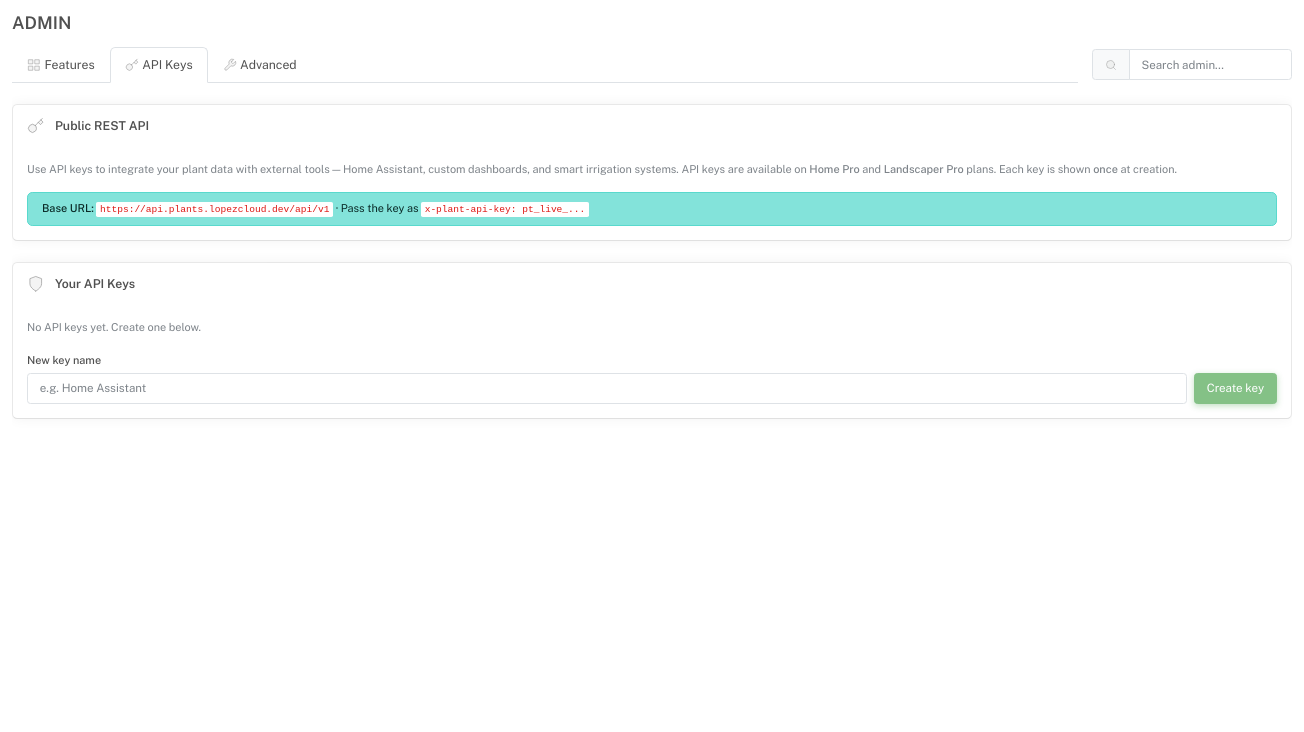
AdminPage API Keys tab › creates a key with the entered name and shows the new-key banner
Type "My App" into the field with test id "new-key-name-input" at (607, 389), box left=27, top=373, right=1187, bottom=404
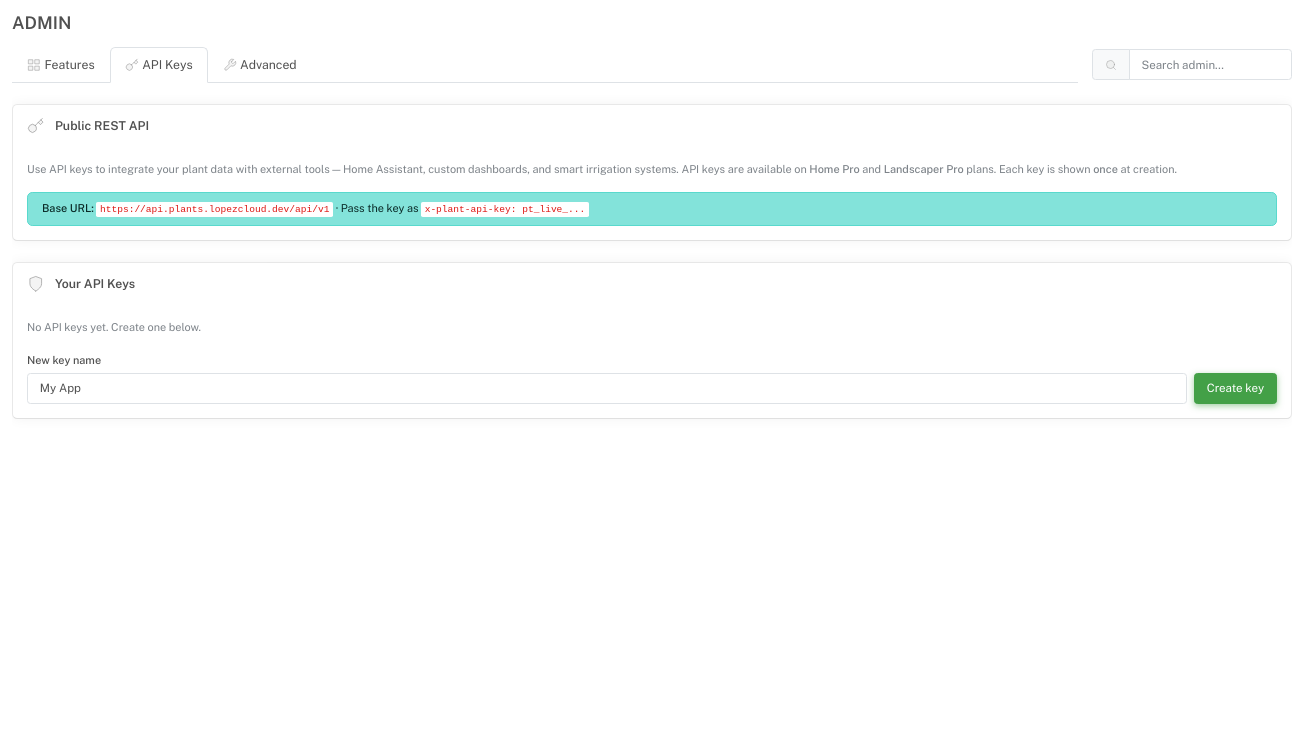
Click the button with test id "create-key-btn" at (1235, 389), box left=1194, top=373, right=1277, bottom=404
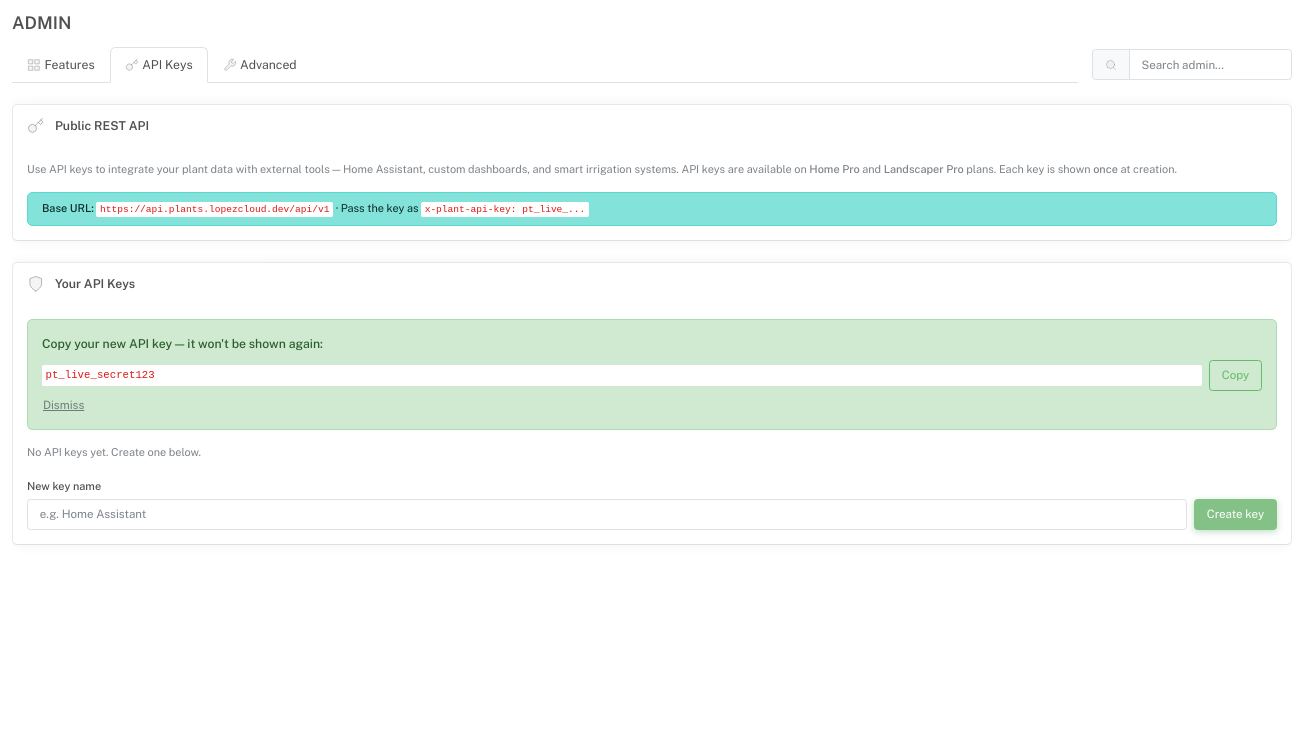
Expected: the element with test id "new-key-banner" is shown, left=27, top=319, right=1277, bottom=430
Expected: the text with test id "new-key-value" reads "pt_live_secret123", left=46, top=369, right=155, bottom=381
